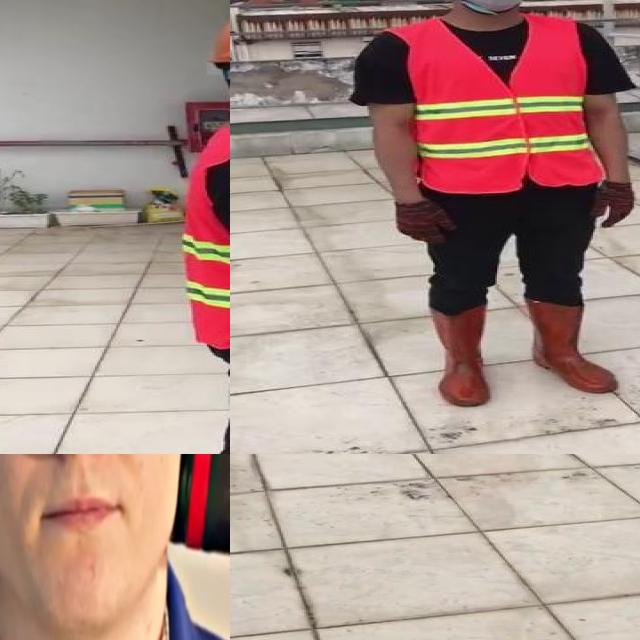Ear-protection: (0, 454, 230, 612)
boots: (526, 295, 620, 393), (426, 304, 495, 406)
face_mask: (446, 0, 544, 11)
hand_glove: (392, 201, 456, 244), (590, 181, 638, 228)
person: (346, 0, 640, 409), (158, 0, 230, 454)
vest: (404, 17, 594, 194), (184, 130, 230, 350)
